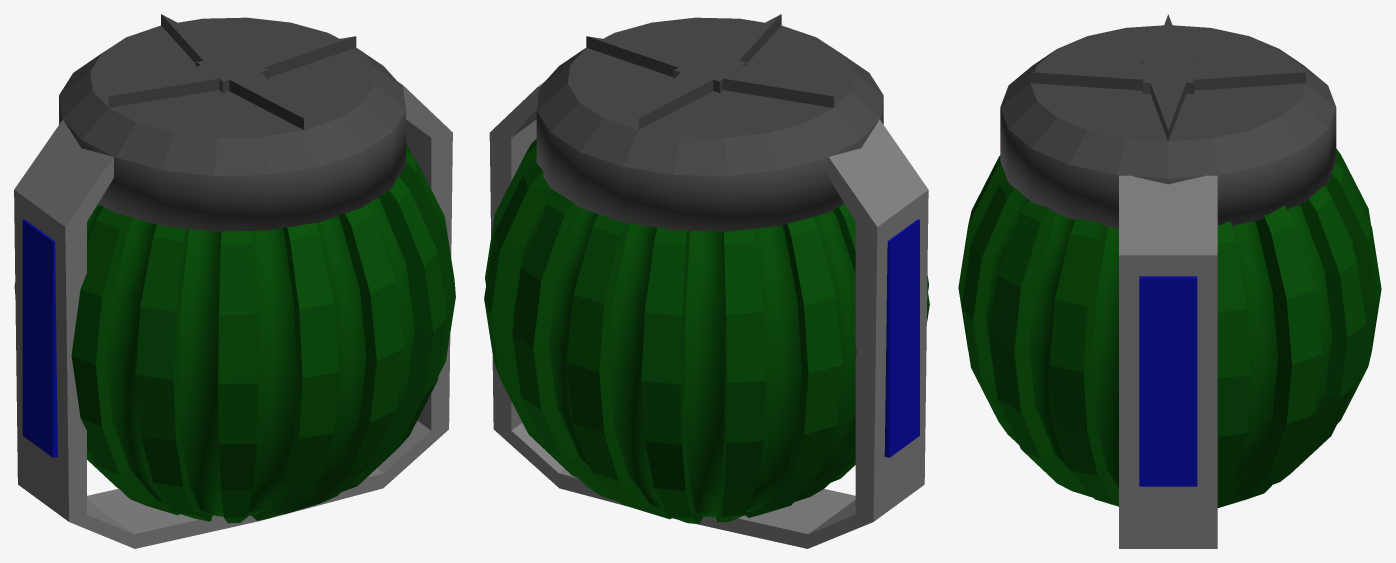
File: EMPGrenade_V_2_2.fbx
3 views of the same model, side by side, from view 1: azimuth 30°, elevation 25°; view 2: azimuth 150°, elevation 25°; view 3: azimuth 270°, elevation 25° (orthographic). The views are drawn at different scales.
Visible parts, largest first — view 1: Sphere.001, Cylinder, Cube, Cube.002; view 2: Sphere.001, Cylinder, Cube, Cube.002; view 3: Sphere.001, Cylinder, Cube, Cube.001.
Part boxes in pixels (left/top/right/bottom): Sphere.001: left=14, top=143, right=455, bottom=523; Cylinder: left=59, top=14, right=405, bottom=231; Cube: left=14, top=82, right=452, bottom=548; Cube.002: left=22, top=219, right=57, bottom=457; Sphere.001: left=484, top=139, right=929, bottom=524; Cylinder: left=536, top=14, right=883, bottom=231; Cube: left=489, top=81, right=928, bottom=548; Cube.002: left=884, top=219, right=919, bottom=457; Sphere.001: left=958, top=148, right=1381, bottom=507; Cylinder: left=1000, top=14, right=1336, bottom=228; Cube: left=1119, top=175, right=1217, bottom=548; Cube.001: left=1139, top=276, right=1197, bottom=486.
Bounding box in the file's own units: 44.34 × 47 × 42.88.
